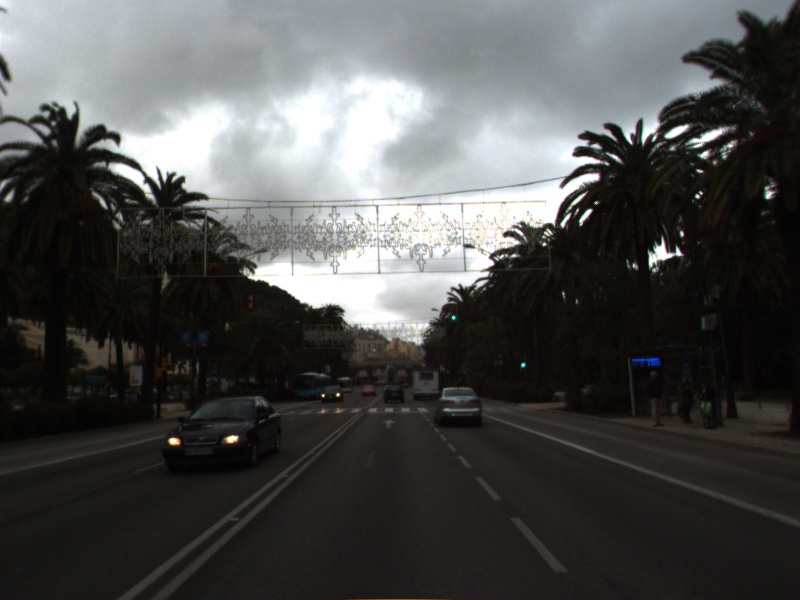STRAIGHT: (379, 417, 399, 430)
